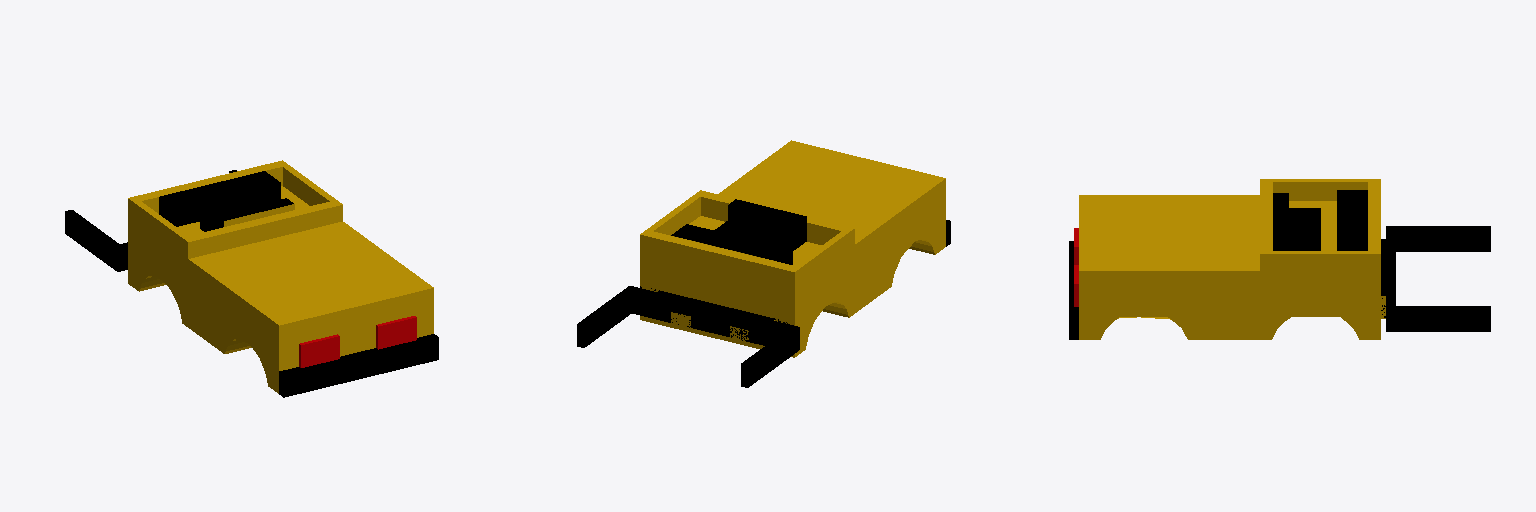
The model's file is Body.obj.
3 views of the same model, side by side, from view 1: azimuth 30°, elevation 25°; view 2: azimuth 150°, elevation 25°; view 3: azimuth 270°, elevation 25° (orthographic).
Parts seen in each view (by area): view 1: Cube; view 2: Cube; view 3: Cube.
Part boxes in pixels (bbox=[...]): Cube: bbox=[65, 160, 438, 397]; Cube: bbox=[577, 140, 950, 387]; Cube: bbox=[1069, 179, 1490, 339].
Bounding box in the file's own units: 3.66 × 1.88 × 7.84.